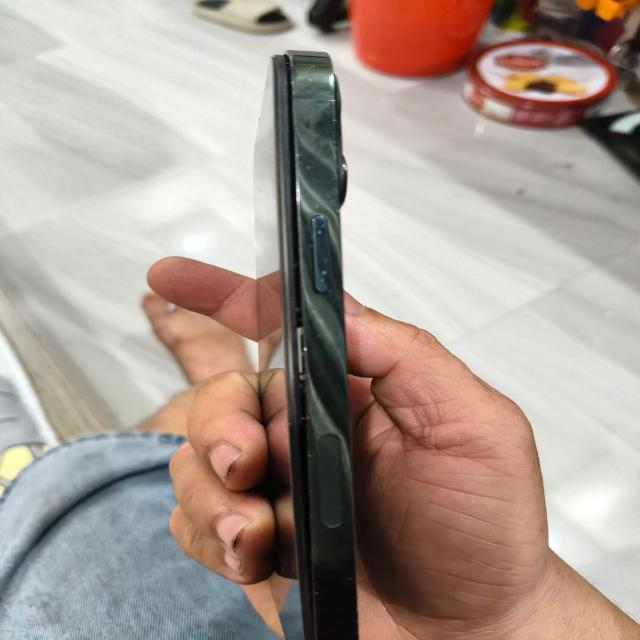scratch: (292, 332, 348, 622), (278, 44, 344, 204), (284, 215, 347, 311)
